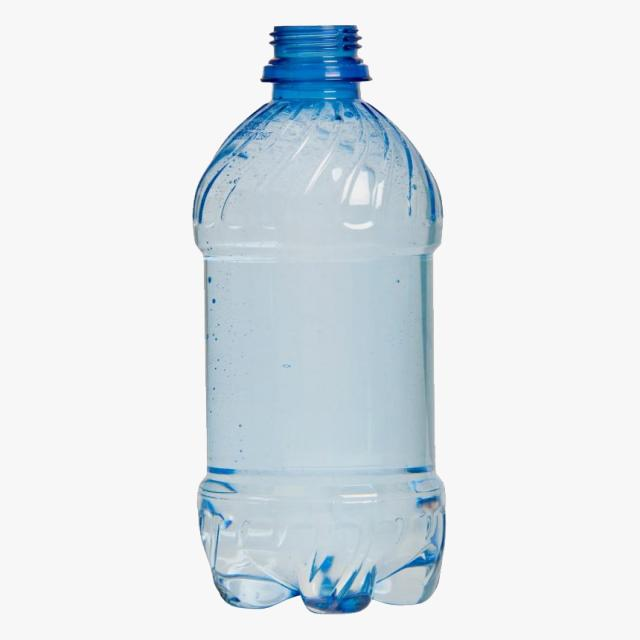bottle: (179, 24, 463, 616)
